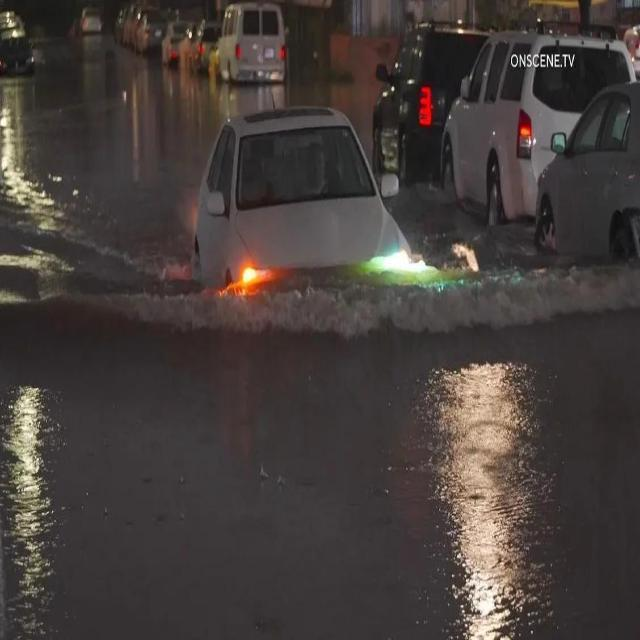water: (0, 30, 639, 637)
